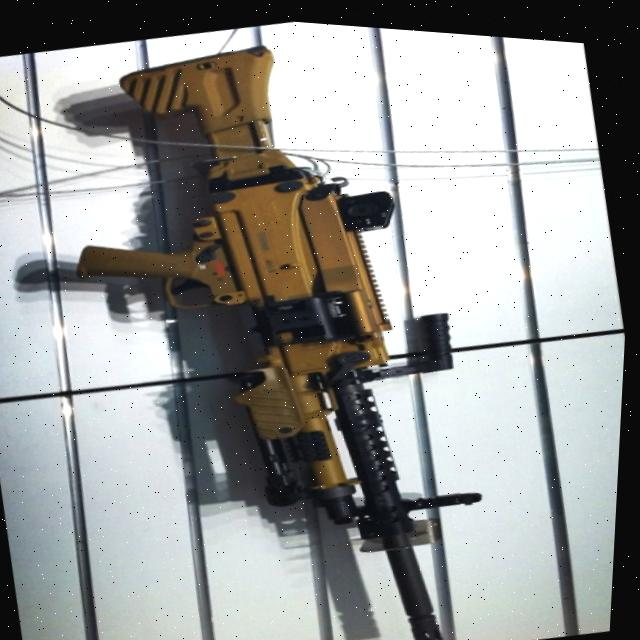firearm: (19, 3, 531, 640)
